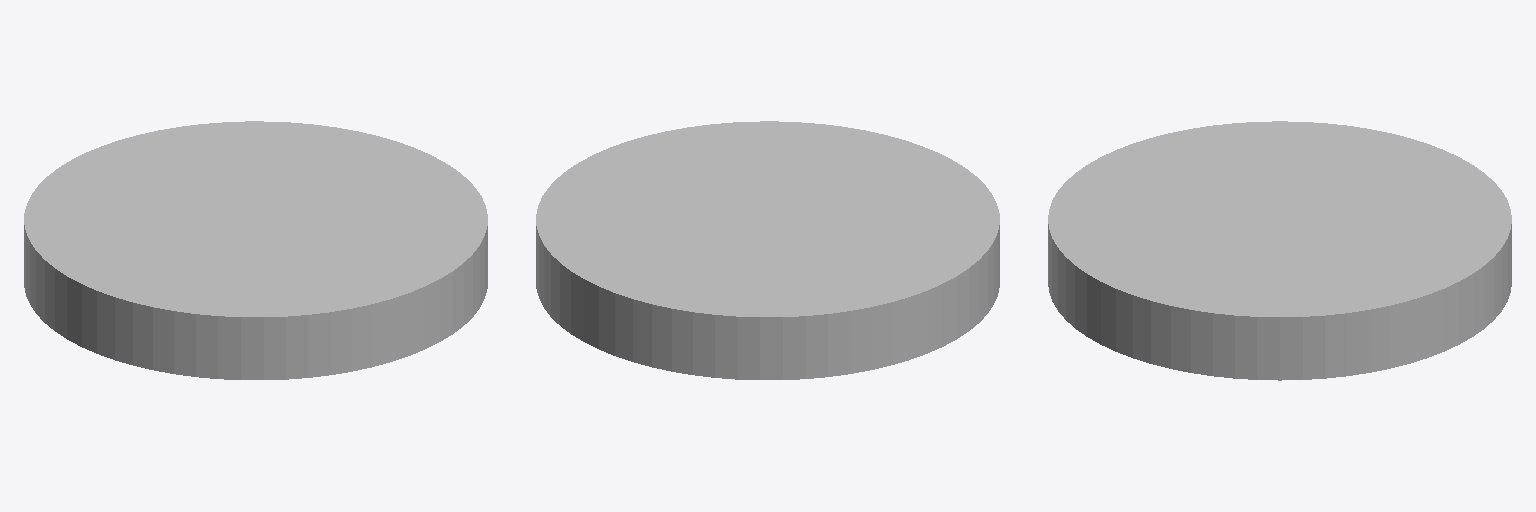
Rendered from btn1.obj.
3 renders of one model, left to right at view 1: azimuth 30°, elevation 25°; view 2: azimuth 150°, elevation 25°; view 3: azimuth 270°, elevation 25°, orthographic.
Visible parts, largest first — view 1: obj_0; view 2: obj_0; view 3: obj_0.
Boxes of the visible parts, box(x1,y1,x2,y2) form: obj_0: box(24, 121, 487, 379); obj_0: box(536, 121, 999, 379); obj_0: box(1048, 121, 1511, 380).
Bounding box in the file's own units: 20 × 3.48 × 20.